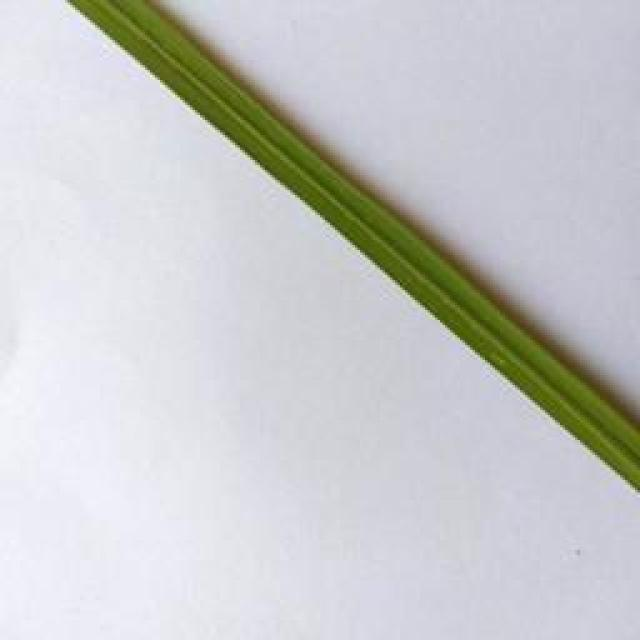Healthy-Plant: (62, 3, 356, 178), (276, 176, 518, 322), (439, 322, 640, 476)
